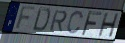C: (66, 10, 85, 35)
D: (32, 7, 52, 33)
F: (13, 5, 38, 31), (80, 10, 103, 37)
H: (97, 12, 120, 38)
R: (48, 9, 68, 33)
